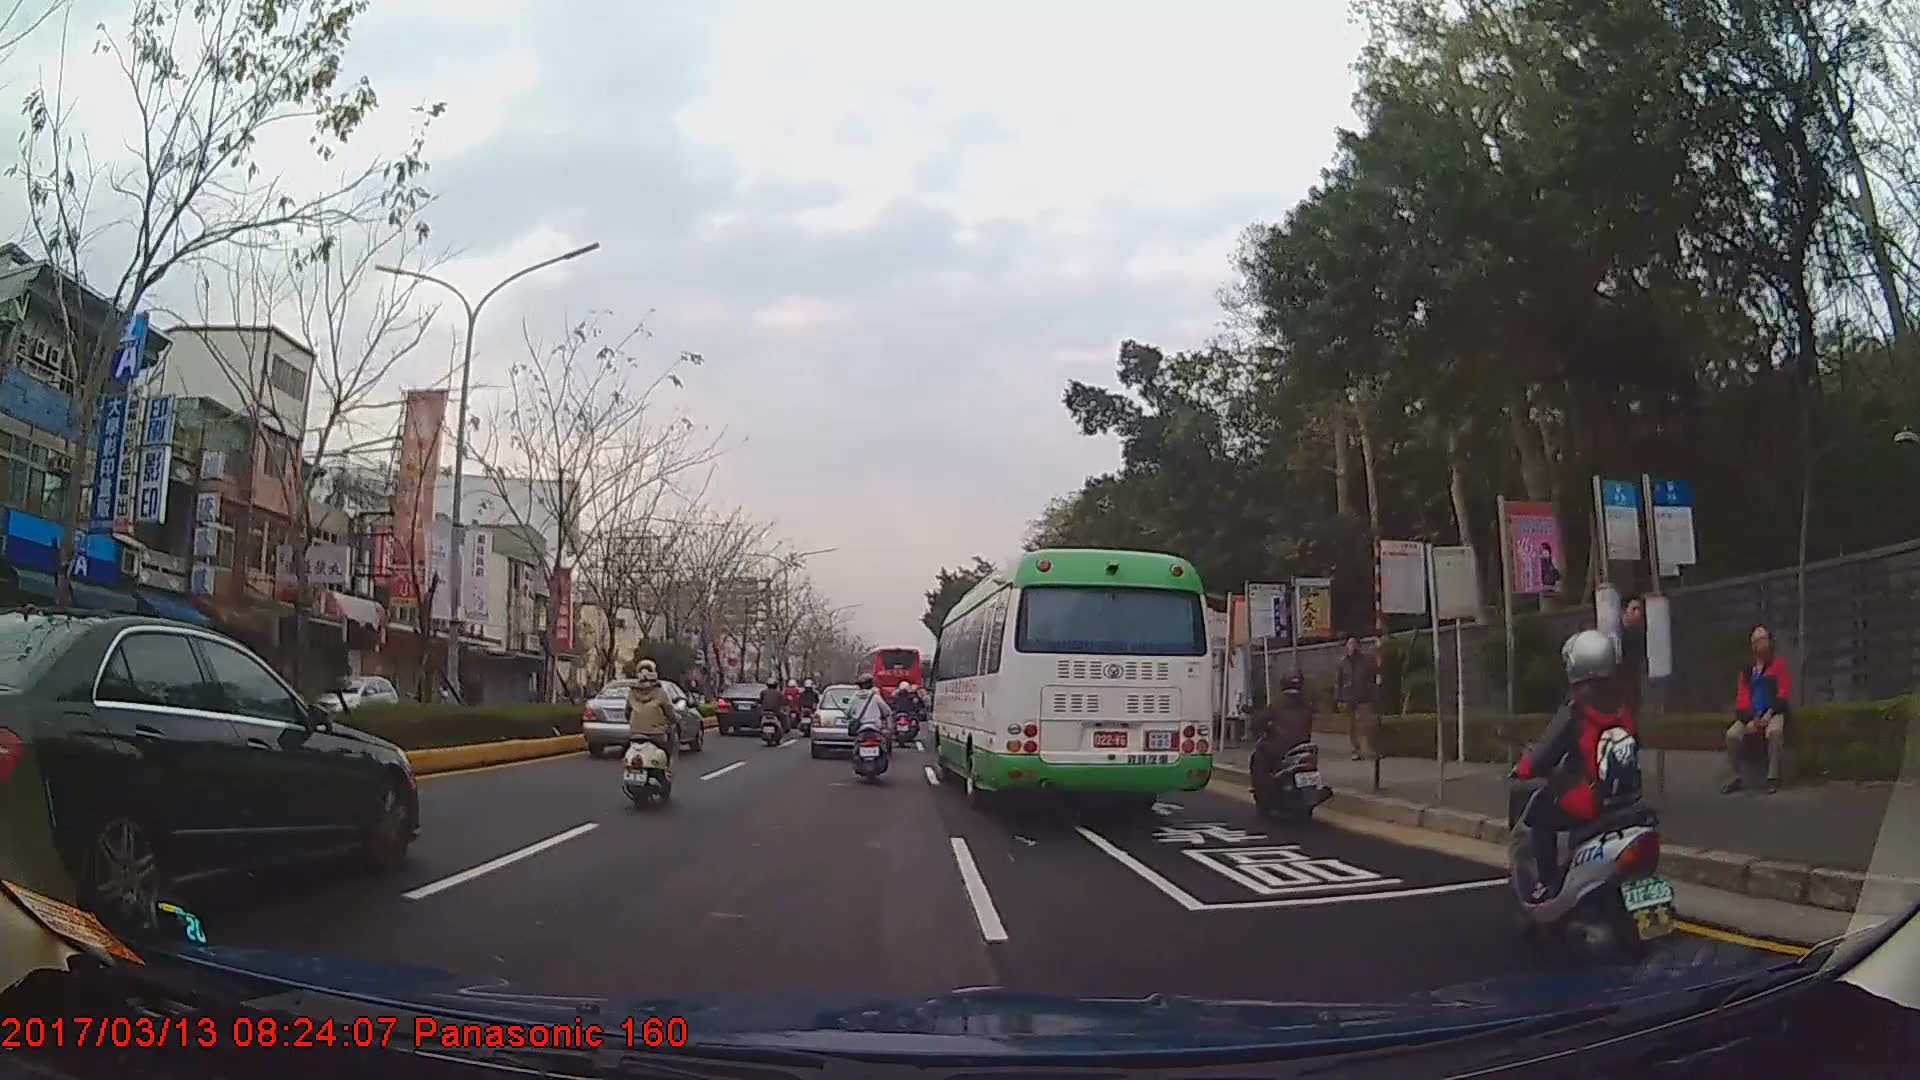pedestrian: (1592, 599, 1661, 837), (1724, 630, 1793, 800), (1331, 635, 1384, 760)
rider: (1500, 628, 1672, 943), (1239, 675, 1331, 824), (621, 661, 680, 815), (843, 679, 892, 787), (758, 681, 789, 751), (891, 682, 919, 736), (798, 679, 820, 727), (438, 674, 463, 707), (408, 672, 430, 707)
vehicle: (0, 612, 417, 943), (927, 547, 1214, 818), (579, 676, 703, 755), (810, 683, 888, 762), (309, 671, 401, 727), (853, 646, 920, 715), (717, 682, 789, 741)
